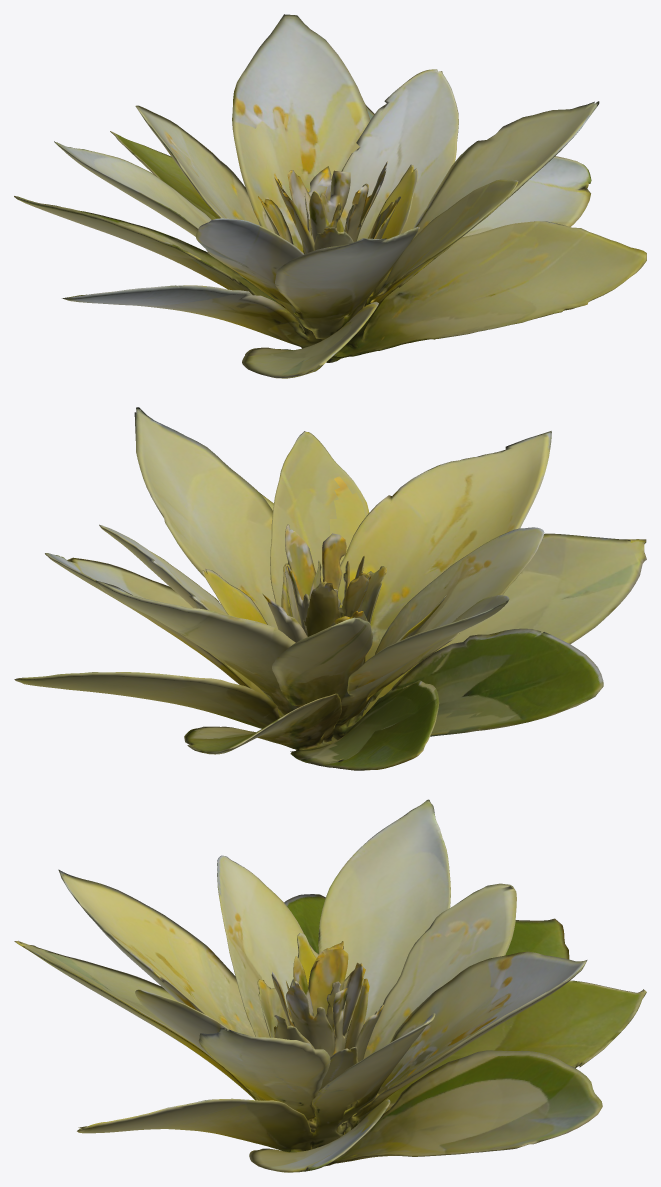
File: whiteflower.glb
3 renders of one model, top to bottom at view 1: azimuth 30°, elevation 25°; view 2: azimuth 150°, elevation 25°; view 3: azimuth 270°, elevation 25°, orthographic. The views are drawn at different scales.
Size of the model in its own units: 1.98 by 0.8657 by 1.97.
1 material, 1 textured.
